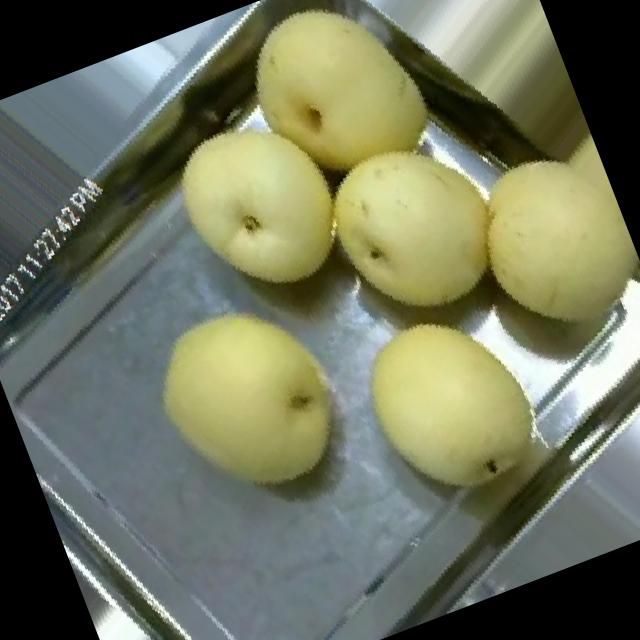Fruit: (106, 255, 394, 553), (308, 260, 594, 556), (282, 86, 556, 361), (196, 0, 481, 233), (136, 74, 386, 333), (421, 98, 640, 379)
